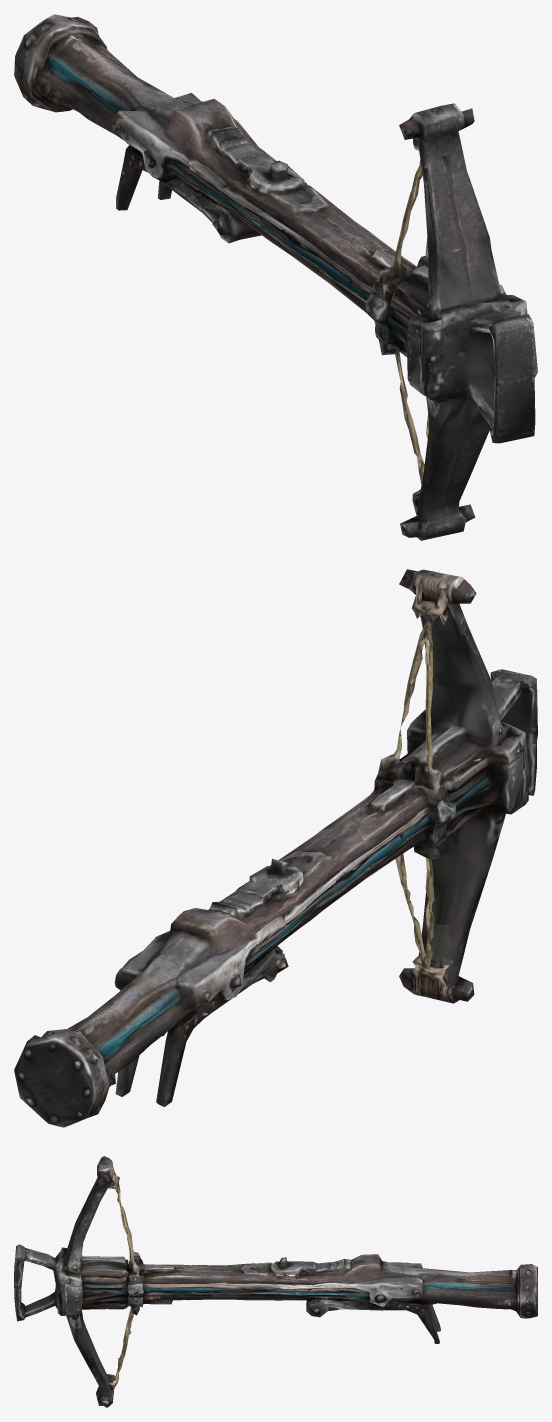
Rendered from crossbow.glb.
3 views of the same model, one above another, from view 1: azimuth 30°, elevation 25°; view 2: azimuth 150°, elevation 25°; view 3: azimuth 270°, elevation 25° (orthographic). The views are drawn at different scales.
Parts seen in each view (by area): view 1: tripo_node_da3ae572-e72e-4c90-bf36-084d134ffa9c; view 2: tripo_node_da3ae572-e72e-4c90-bf36-084d134ffa9c; view 3: tripo_node_da3ae572-e72e-4c90-bf36-084d134ffa9c.
Part boxes in pixels (<box>): tripo_node_da3ae572-e72e-4c90-bf36-084d134ffa9c: <box>14,14,537,540</box>; tripo_node_da3ae572-e72e-4c90-bf36-084d134ffa9c: <box>14,569,537,1127</box>; tripo_node_da3ae572-e72e-4c90-bf36-084d134ffa9c: <box>14,1156,537,1407</box>.
Bounding box in the file's own units: 0.1287 × 0.4909 × 0.9785.
Materials: 1 (1 with a texture image).
